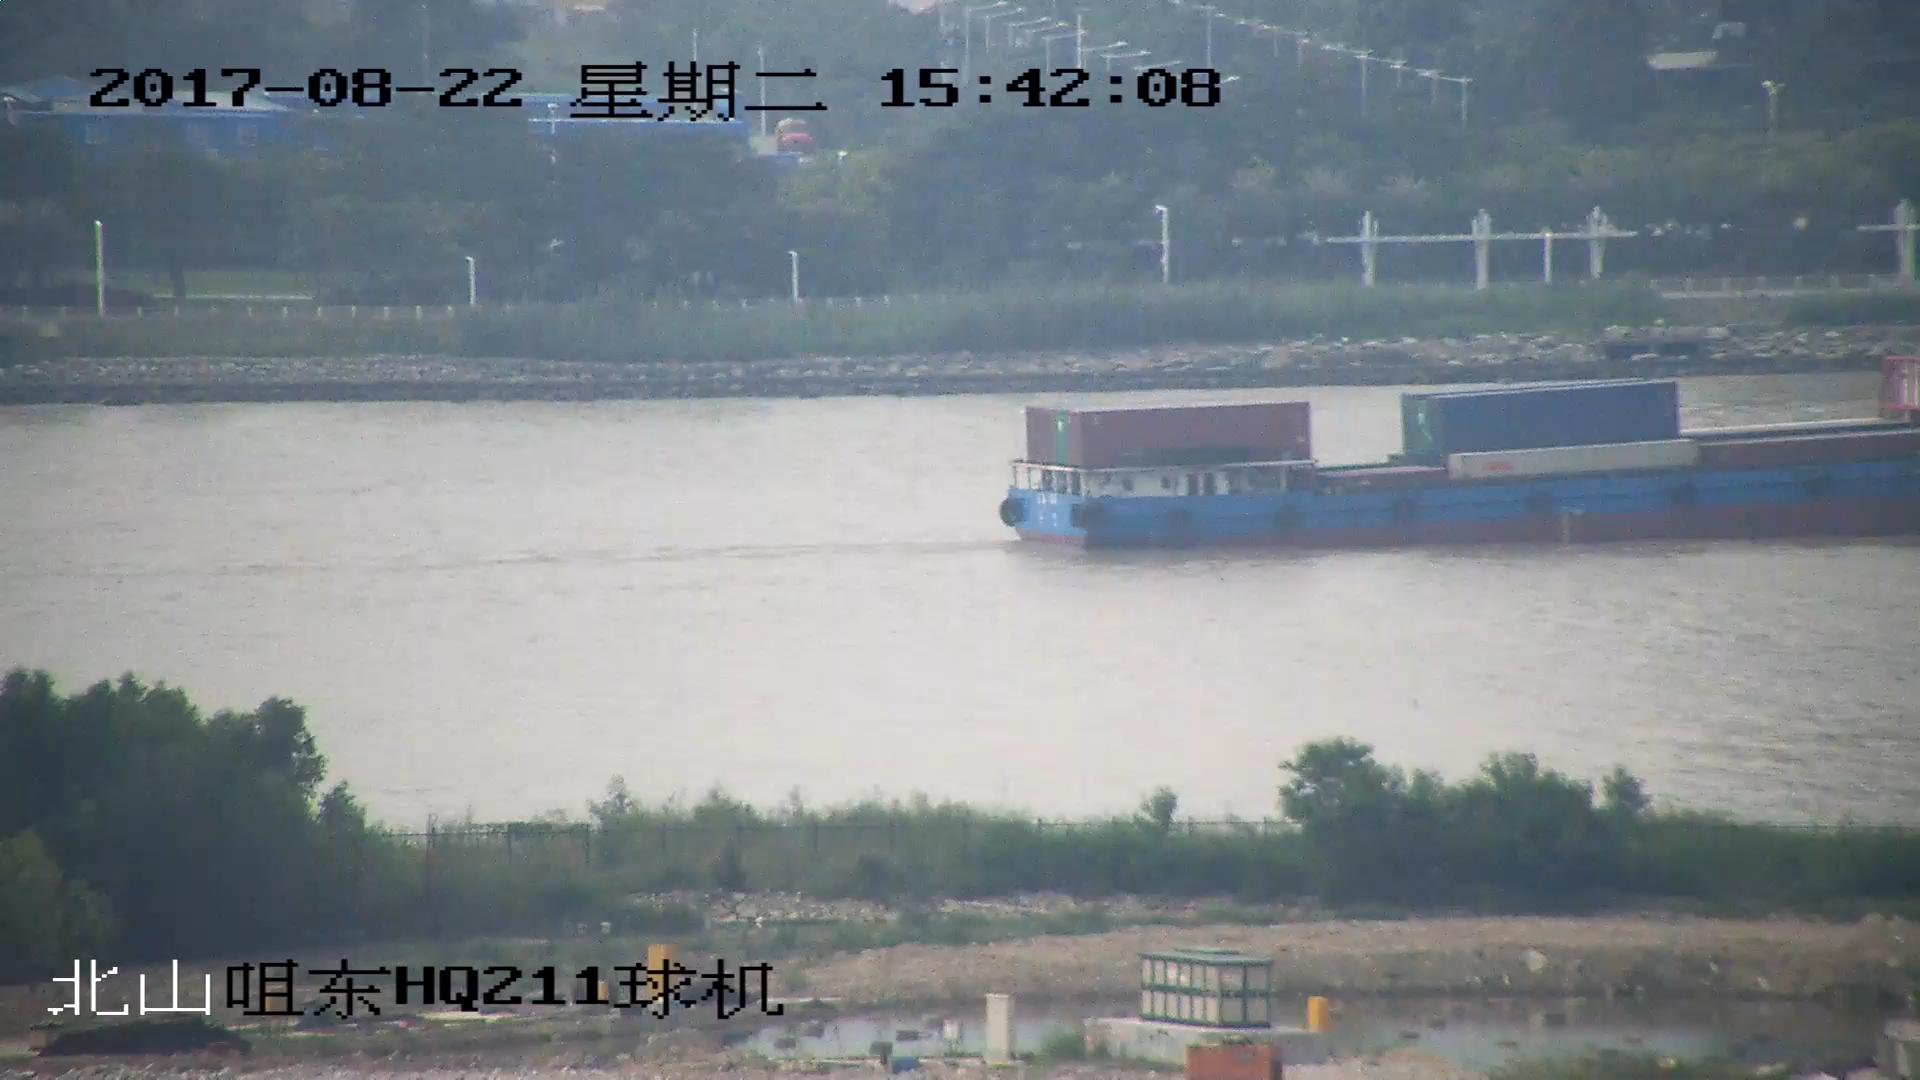container ship: (1001, 353, 1920, 541)
